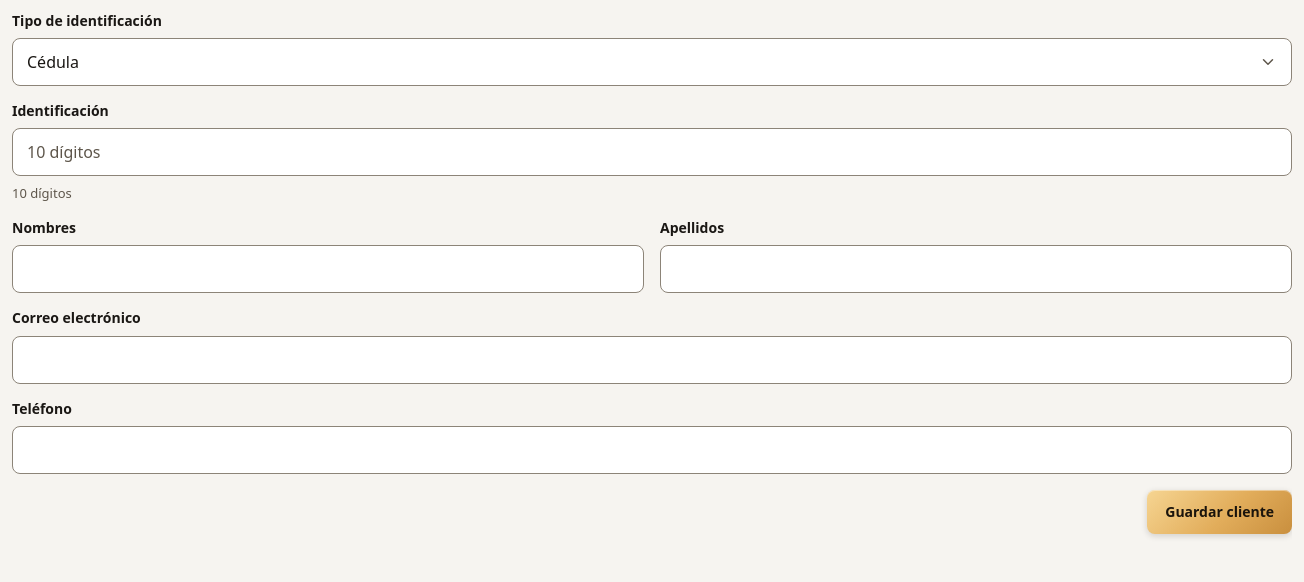
it: FormularioCliente › cambia los campos de nombre al elegir RUC
The width and height of the screenshot is (1304, 582).
Click the dropdown named "Tipo de identificación". click: (53, 62)
box: [12,38,1292,86]
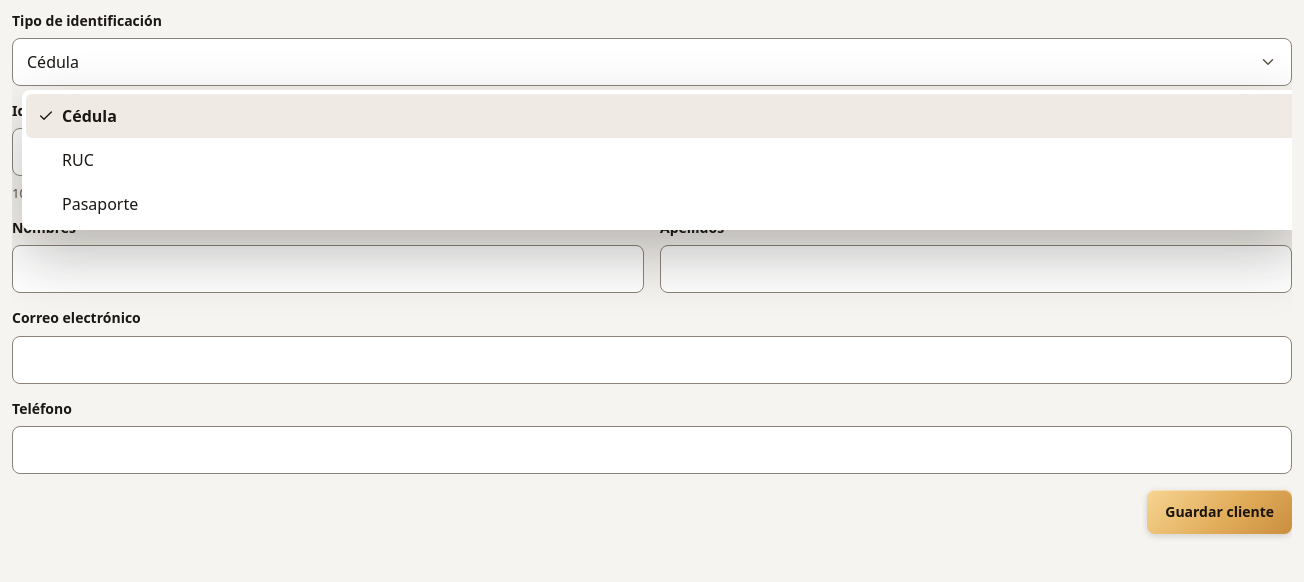
Click the option "RUC". click: (78, 160)
box: [62,149,94,171]
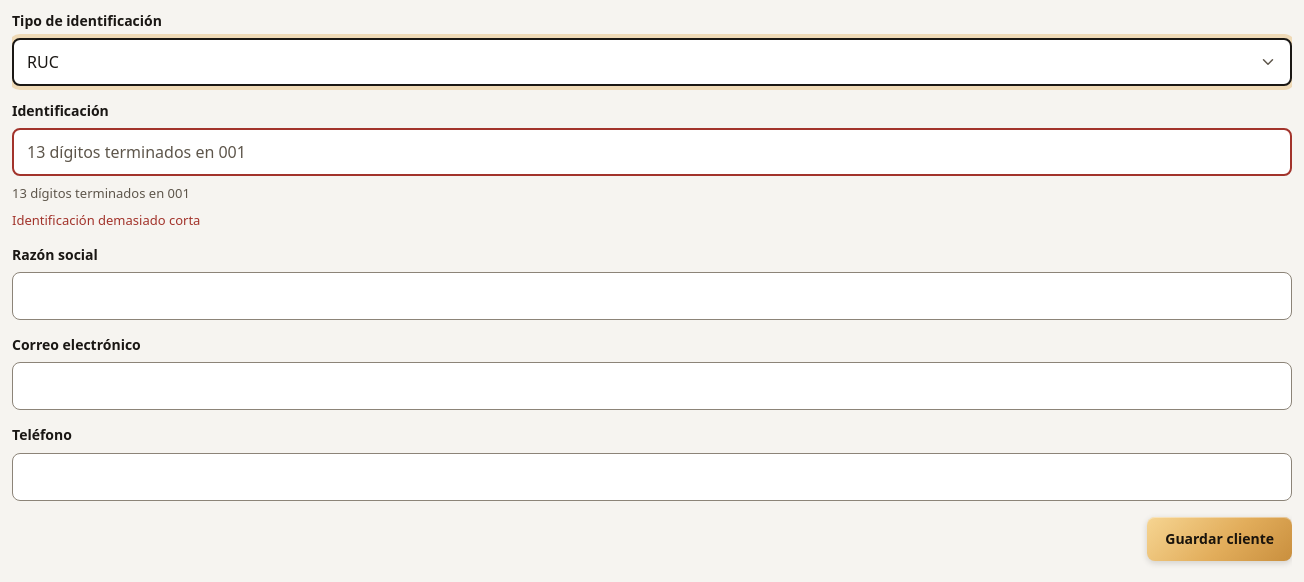
Now the field labelled "Razón social" is shown, box [12,272,1292,320]
Now the label labelled "Nombres" is gone
Now the text "13 dígitos terminados en 001" is shown, box [12,184,190,202]
